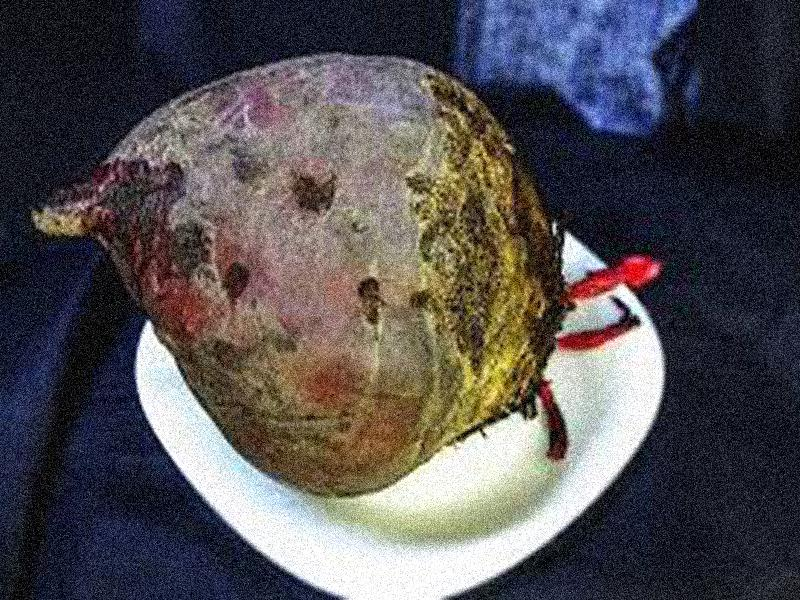Beet: (35, 59, 660, 495)
